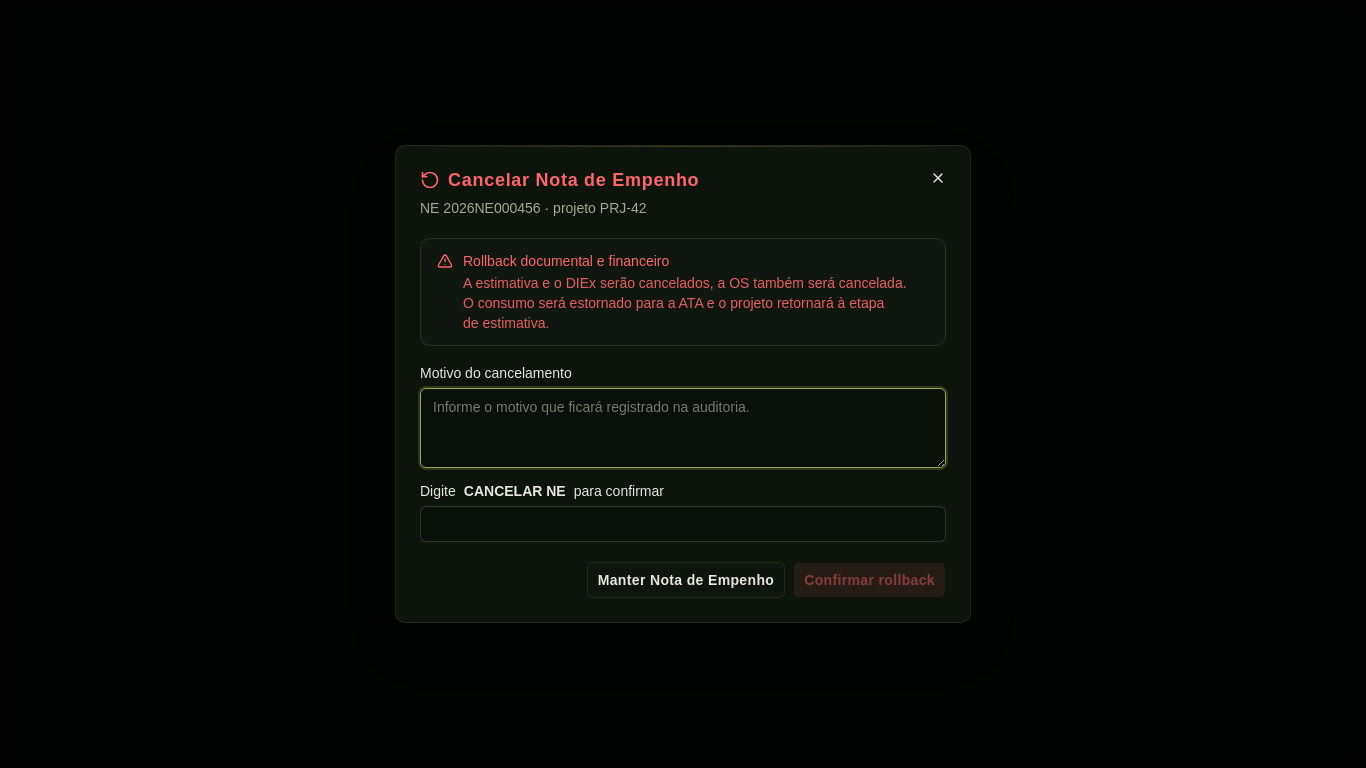
cancelamento da Nota de Empenho › exige motivo e confirmação explícita antes do rollback
The image size is (1366, 768).
Expected: the button "Confirmar rollback" is disabled, [793,562,946,598]
Expected: the text "a OS também será cancelada" is shown, [710,275,903,291]
Type "Empenho anulado pela SALC" into the text box labelled "Motivo do cancelamento" at point(683, 428), box [420,388,946,468]
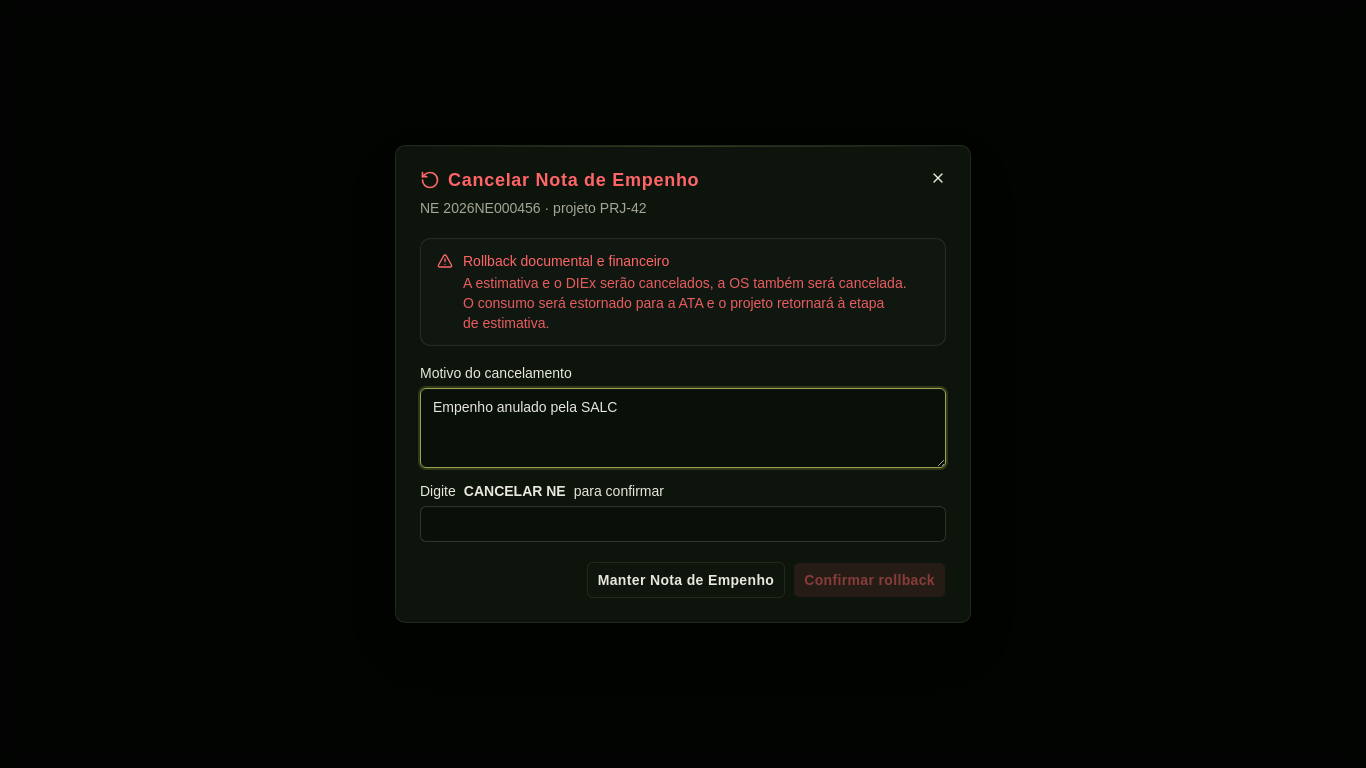
Type "cancelar ne" into the field labelled "Digite CANCELAR NE para confirmar" at point(683, 524), box [420,506,946,542]
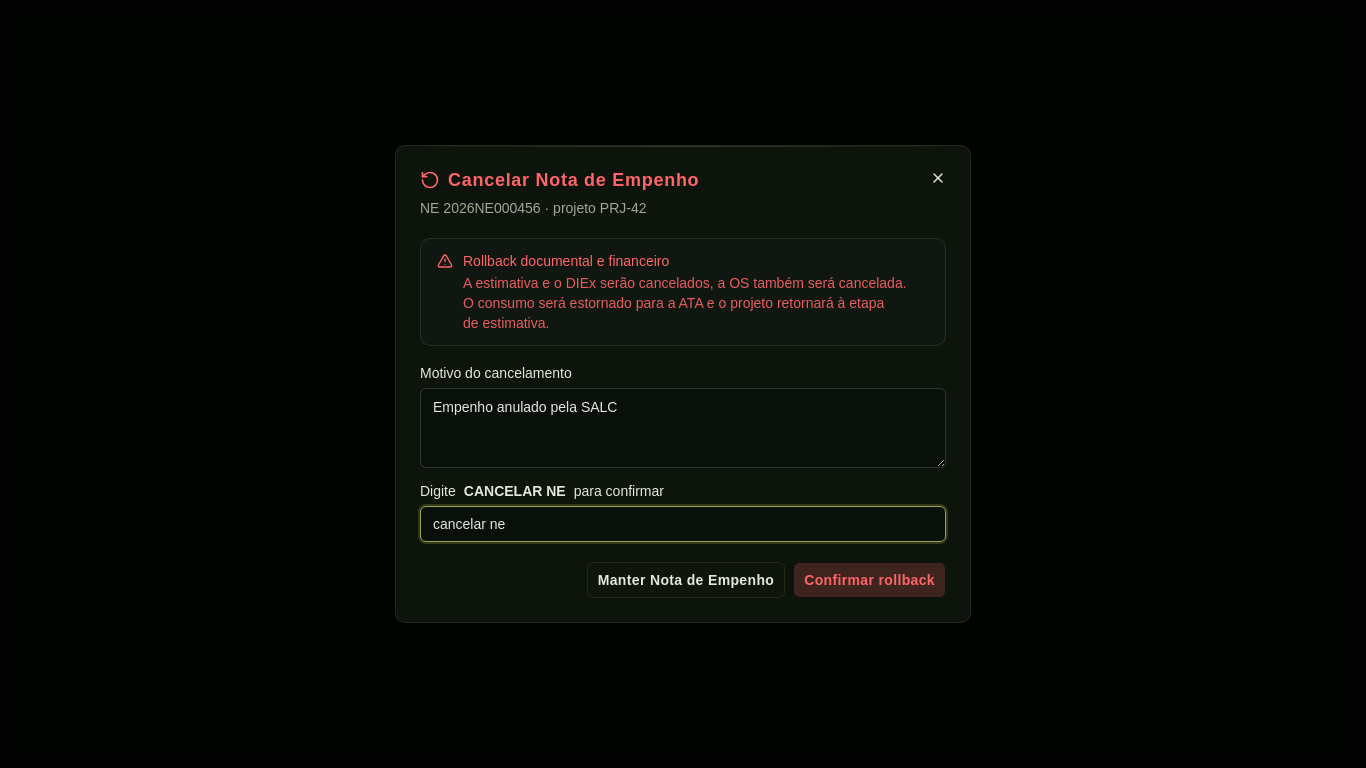
Now the button "Confirmar rollback" is enabled, box [793,562,946,598]
